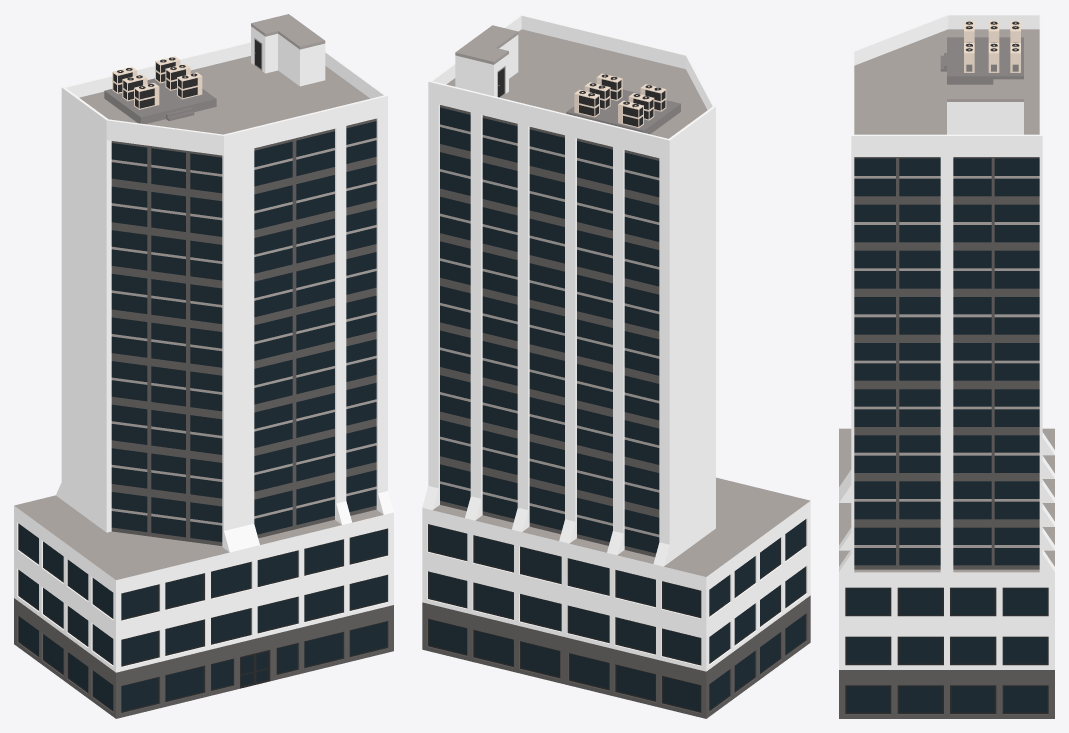
File: building-office.glb
The picture shows the model from 3 angles, left to right: view 1: azimuth 30°, elevation 25°; view 2: azimuth 150°, elevation 25°; view 3: azimuth 270°, elevation 25°; orthographic projection. The views are drawn at different scales.
Parts seen in each view (by area): view 1: building-office; view 2: building-office; view 3: building-office.
Boxes of the visible parts, x1,y1,x2,y2 form: building-office: (14,14,393,718); building-office: (422,14,810,718); building-office: (839,14,1054,718).
Size of the model in its own units: 22 by 43.7 by 14.
1 material, 1 textured.
